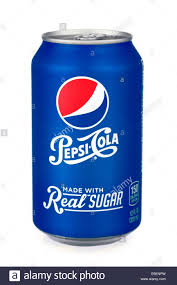Pepsi: (27, 29, 143, 244)
